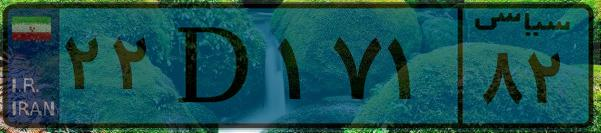1: (270, 28, 330, 110), (385, 28, 445, 110)
2: (57, 26, 110, 100), (525, 38, 570, 115), (110, 28, 158, 98)
7: (330, 28, 385, 110)
8: (475, 38, 525, 113)
D: (158, 12, 270, 120)
